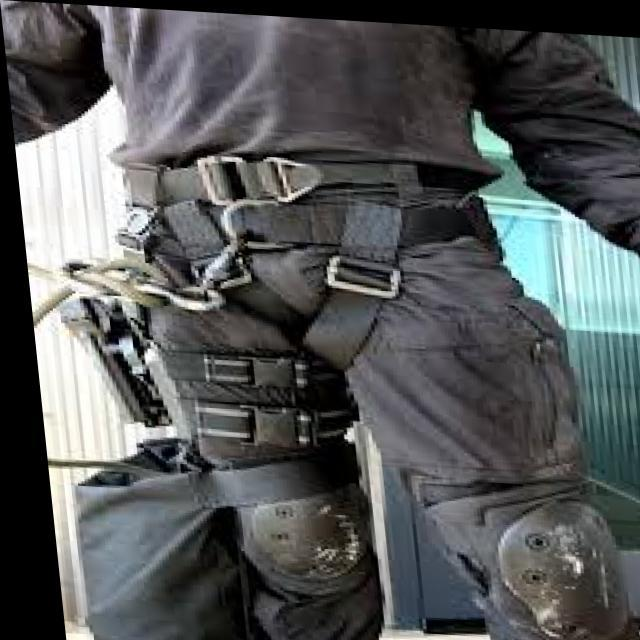belt: (52, 128, 566, 466)
